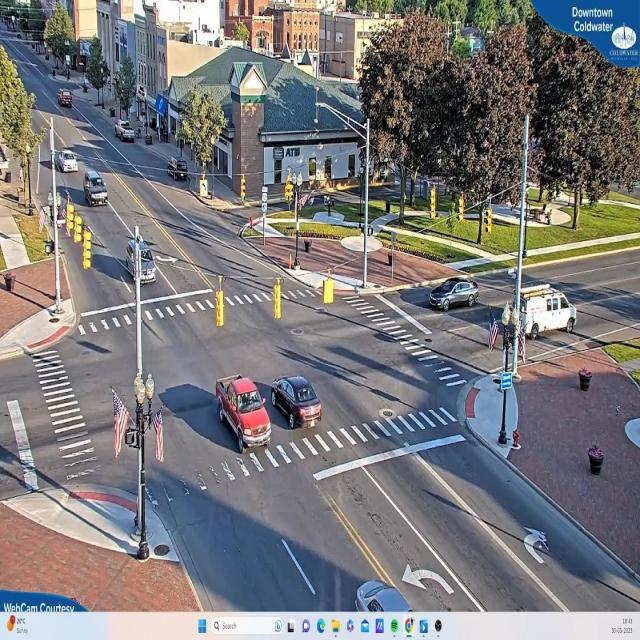car: (215, 376, 270, 451), (513, 281, 580, 337), (272, 378, 326, 428), (427, 275, 478, 310), (126, 238, 156, 286), (83, 173, 109, 209), (55, 150, 77, 174), (116, 123, 136, 143), (57, 90, 73, 109)
